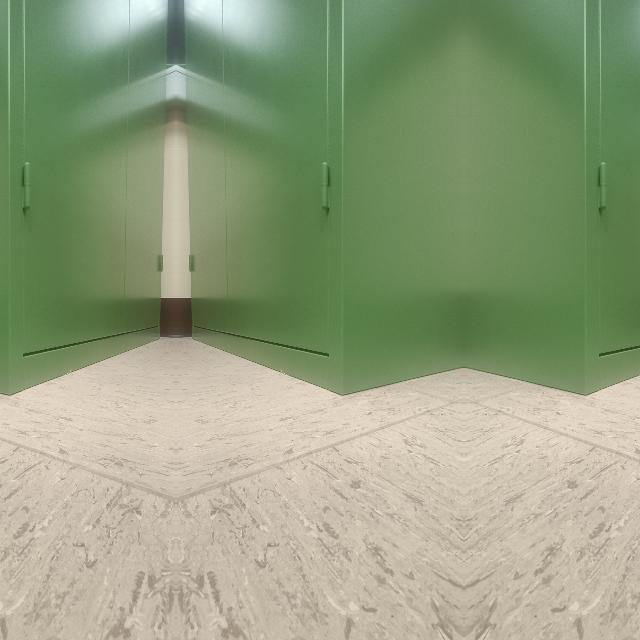obstacle: (184, 43, 463, 397), (463, 43, 640, 397), (0, 43, 165, 397)
